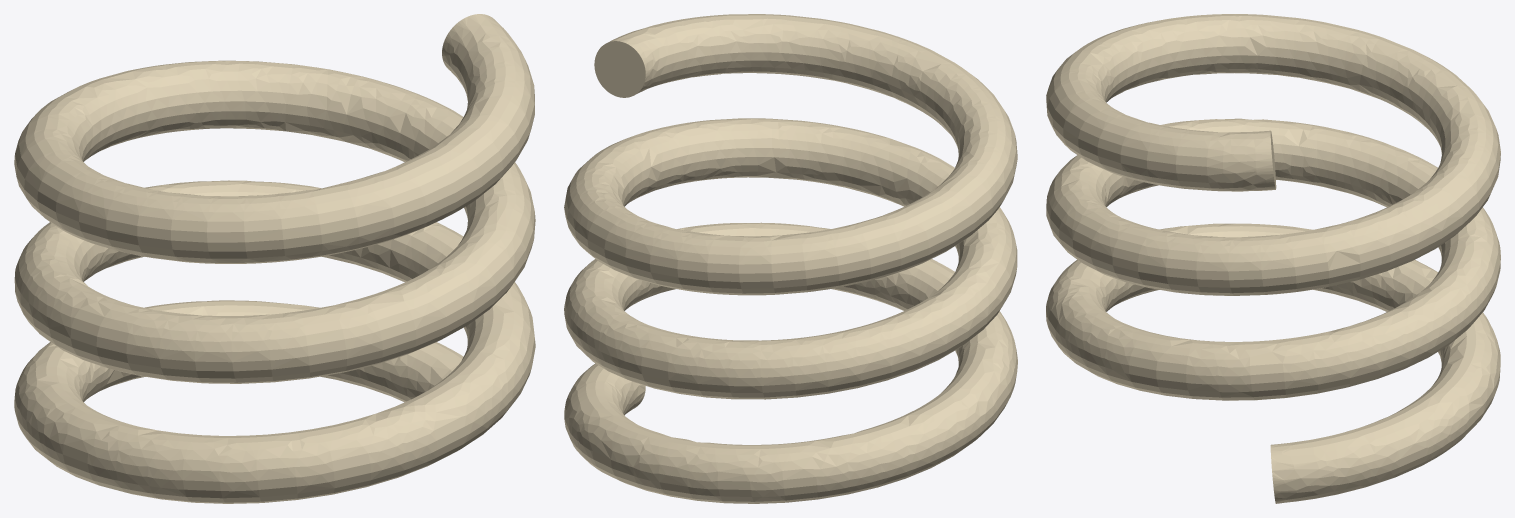
The model's file is lifter-check-spring.glb.
The picture shows the model from 3 angles, left to right: view 1: azimuth 30°, elevation 25°; view 2: azimuth 150°, elevation 25°; view 3: azimuth 270°, elevation 25°; orthographic projection. The views are drawn at different scales.
Parts seen in each view (by area): view 1: world; view 2: world; view 3: world.
Part boxes in pixels (<box>): world: <box>14,14,535,503</box>; world: <box>564,14,1017,503</box>; world: <box>1046,14,1500,503</box>.
Size of the model in its own units: 0.0046 by 0.0041 by 0.00459.
